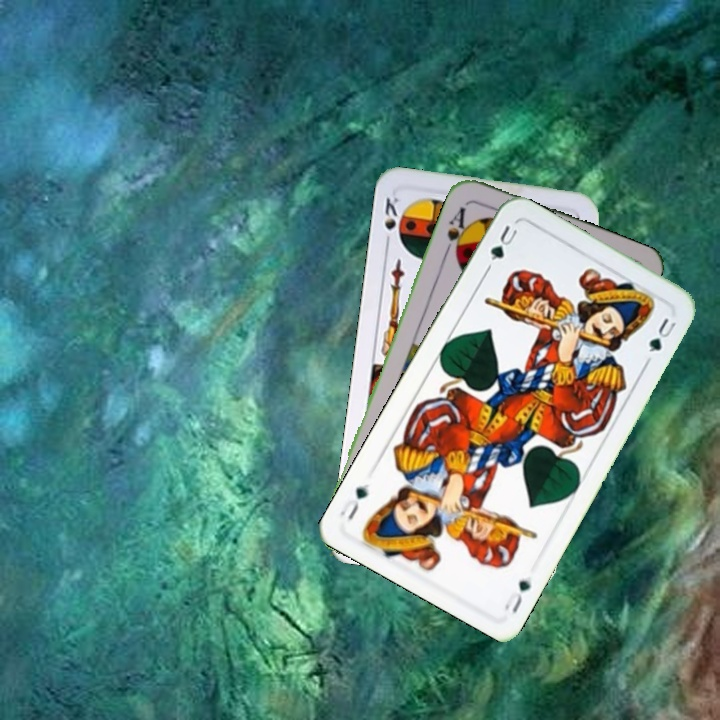GU: (482, 221, 521, 273), (500, 575, 533, 616)
SA: (440, 202, 473, 260)
SK: (380, 193, 405, 250)
